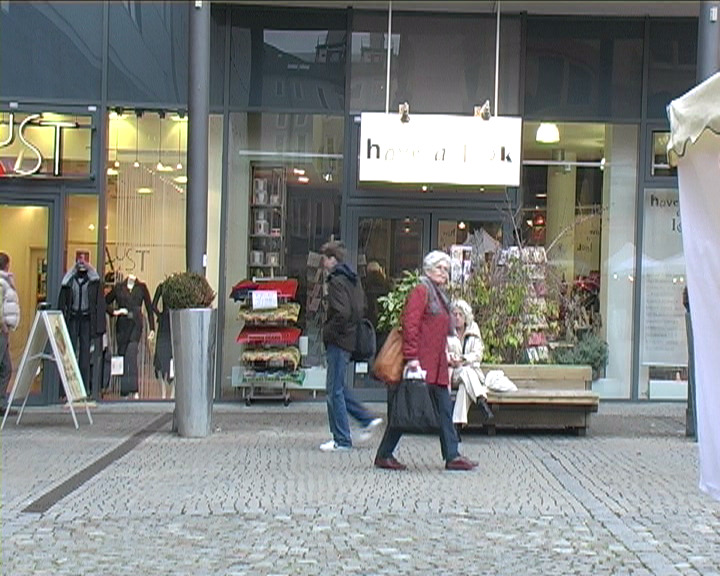deflection: (407, 251, 463, 339)
